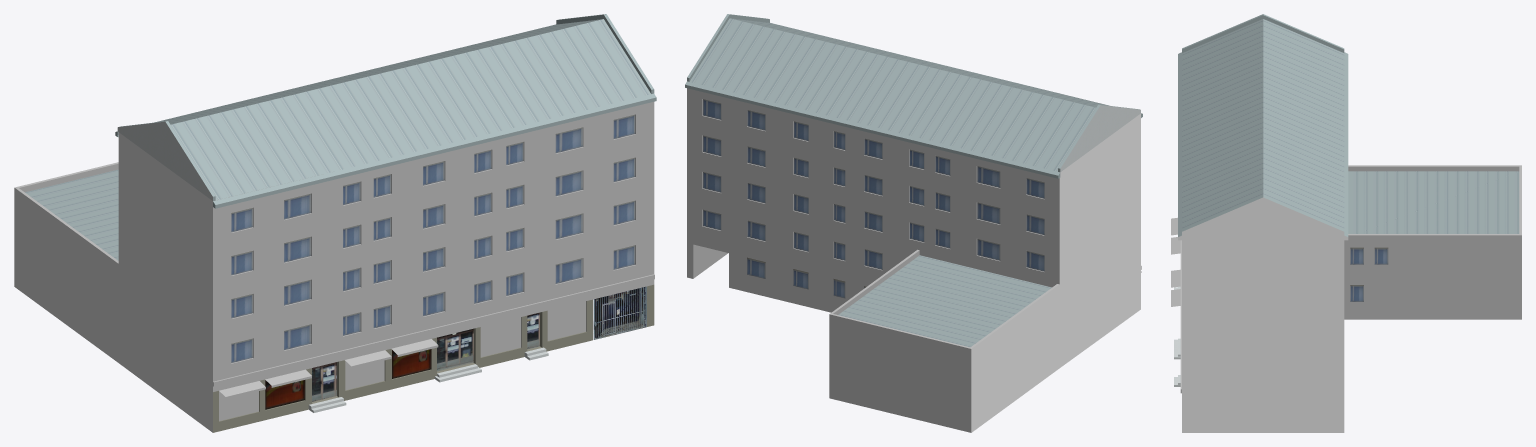
Rendered from iso_28.fbx.
The picture shows the model from 3 angles, left to right: view 1: azimuth 30°, elevation 25°; view 2: azimuth 150°, elevation 25°; view 3: azimuth 270°, elevation 25°; orthographic projection. The views are drawn at different scales.
Visible parts, largest first — view 1: iso_28_wall_dn; view 2: iso_28_wall_dn; view 3: iso_28_wall_dn.
Part boxes in pixels (left/top/right/bottom): iso_28_wall_dn: left=14, top=14, right=656, bottom=432; iso_28_wall_dn: left=685, top=14, right=1142, bottom=432; iso_28_wall_dn: left=1171, top=14, right=1521, bottom=432.
Bounding box in the file's own units: 3171 × 1899 × 2564.
